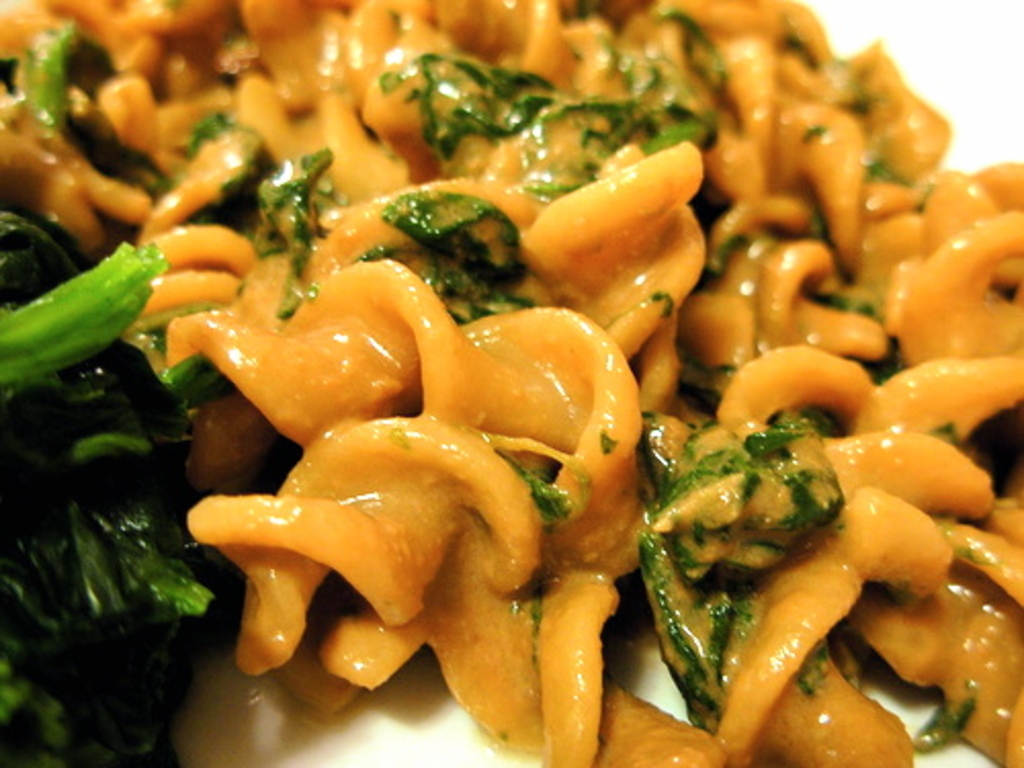pasta: (47, 6, 1024, 768)
